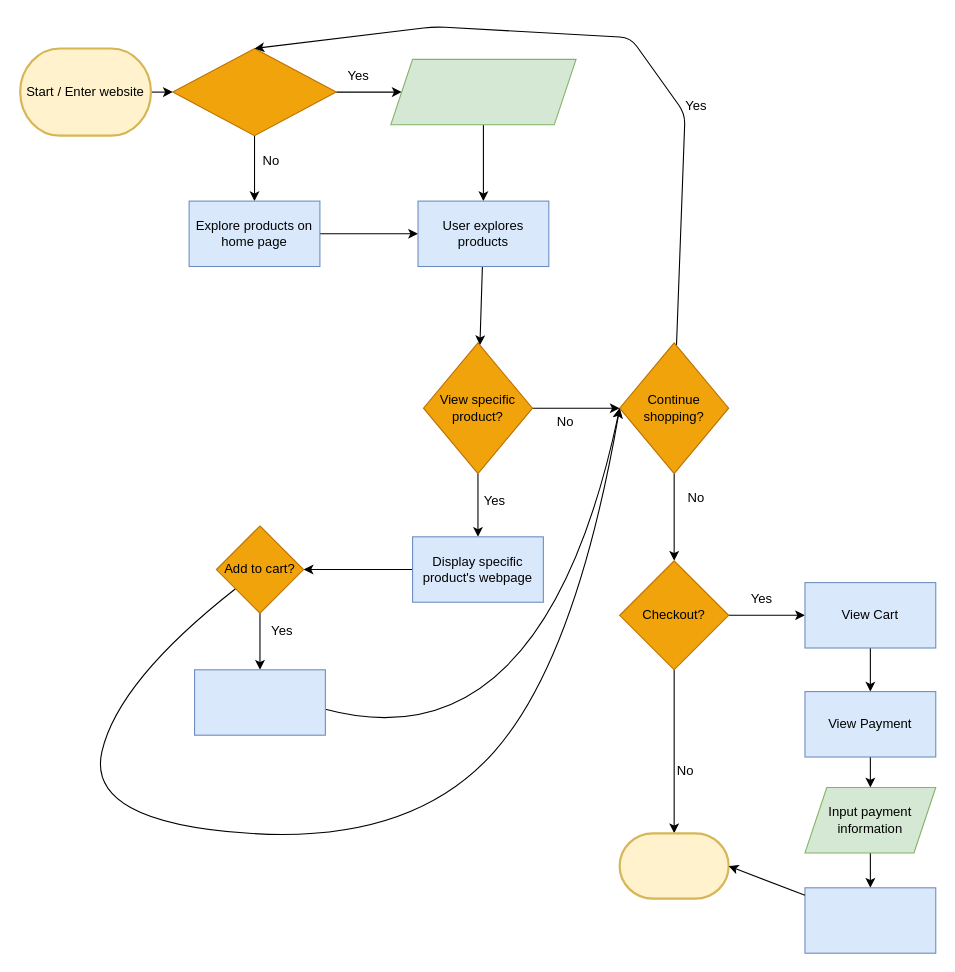
Image size: 955x972. Some labels were removed from this diagram. Each missing label, with the centre of its shape:
"Display added to cart confirmation" goes at point 259,702.
"End / Leave website" goes at point 673,865.
"Order confirmation screen + email confirmation" goes at point 870,920.
"Provide search query for product" goes at point 483,91.
"Search for products" goes at point 254,91.
